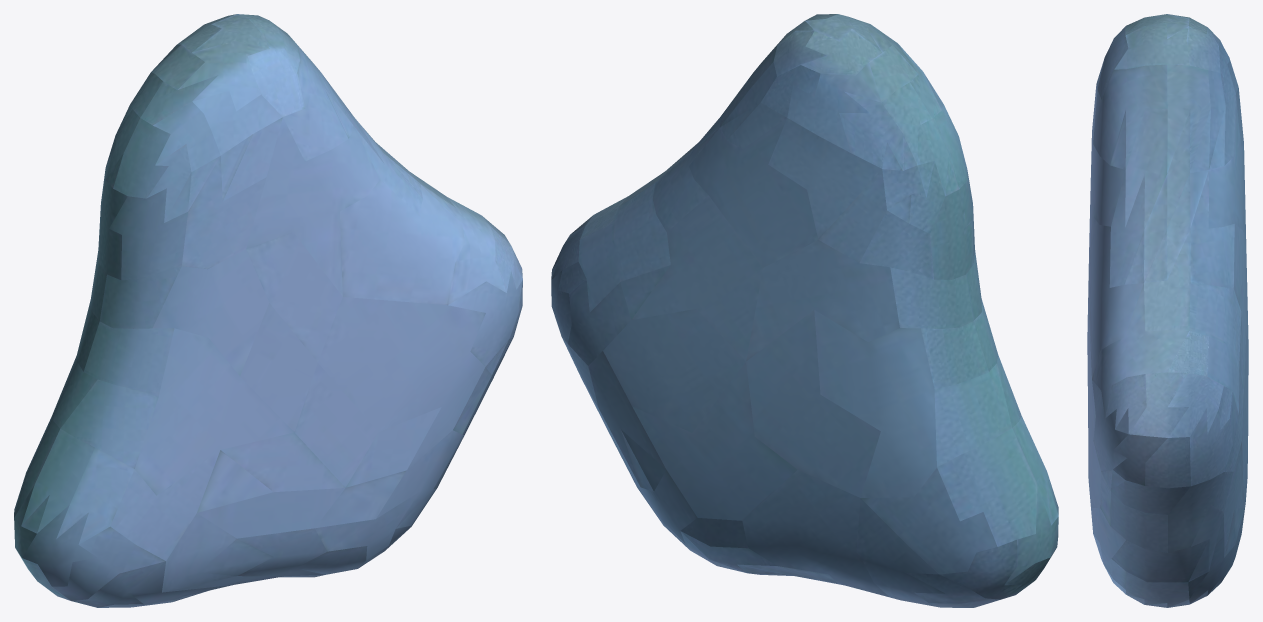
The model's file is sea-glass.glb.
3 renders of one model, left to right at view 1: azimuth 30°, elevation 25°; view 2: azimuth 150°, elevation 25°; view 3: azimuth 270°, elevation 25°, orthographic. The views are drawn at different scales.
Visible parts, largest first — view 1: mesh_node; view 2: mesh_node; view 3: mesh_node.
Part boxes in pixels (left/top/right/bottom): mesh_node: left=14, top=14, right=522, bottom=607; mesh_node: left=551, top=14, right=1058, bottom=607; mesh_node: left=1087, top=14, right=1248, bottom=607.
Bounding box in the file's own units: 0.9102 × 1 × 0.2705.
Materials: 1 (1 with a texture image).
